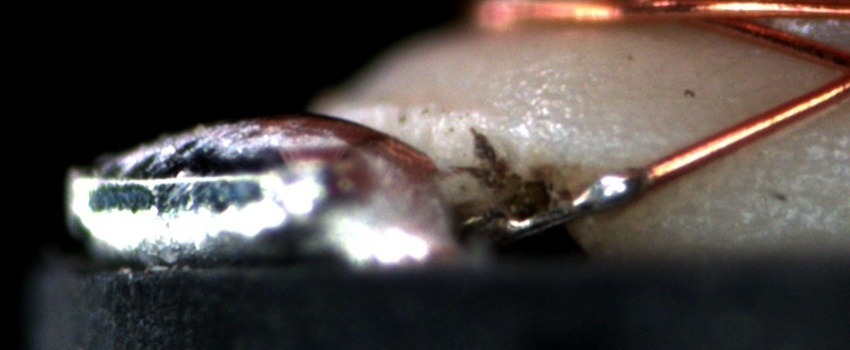CL: (808, 39, 850, 106)
DL: (553, 112, 849, 155)
TB: (574, 164, 644, 211)
TS: (504, 169, 651, 237)
TTCW: (493, 152, 686, 241)
